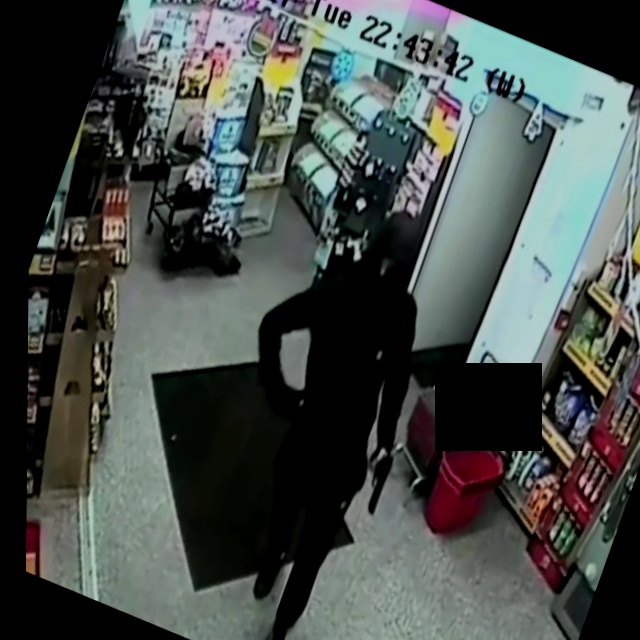gun: (346, 438, 413, 527)
